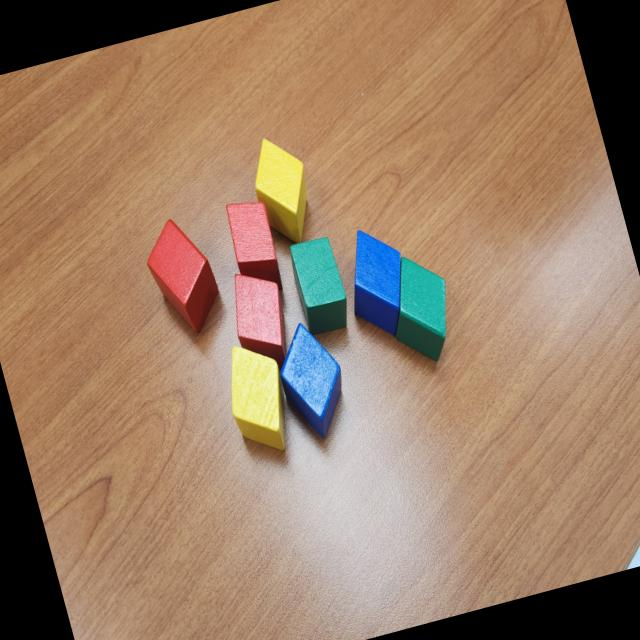blue: (268, 317, 358, 447), (334, 220, 422, 344)
green: (370, 245, 464, 371), (284, 232, 355, 338)
red: (138, 212, 228, 342), (220, 262, 300, 381), (221, 194, 288, 300)
yellow: (215, 334, 300, 459), (242, 130, 322, 249)
